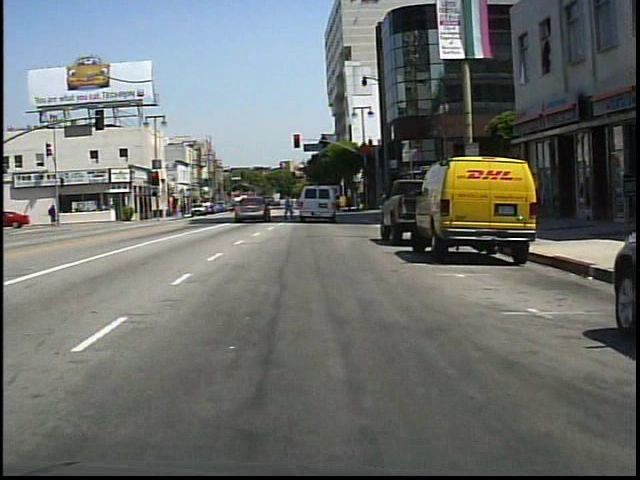person: (279, 191, 297, 223), (282, 195, 294, 218), (47, 205, 57, 225)
